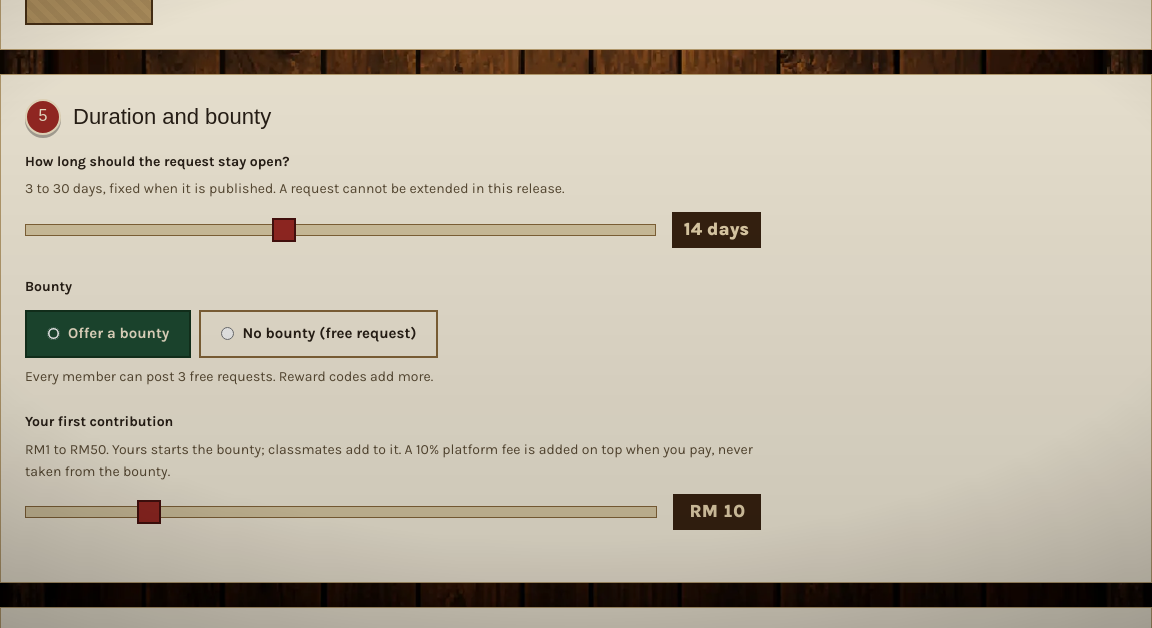
Test: the intake form › offers a free request with no bounty and hides the money slider
(page scrolled)
Click the radio button labelled "No bounty (free request)" at (228, 334), box [221,327,234,340]
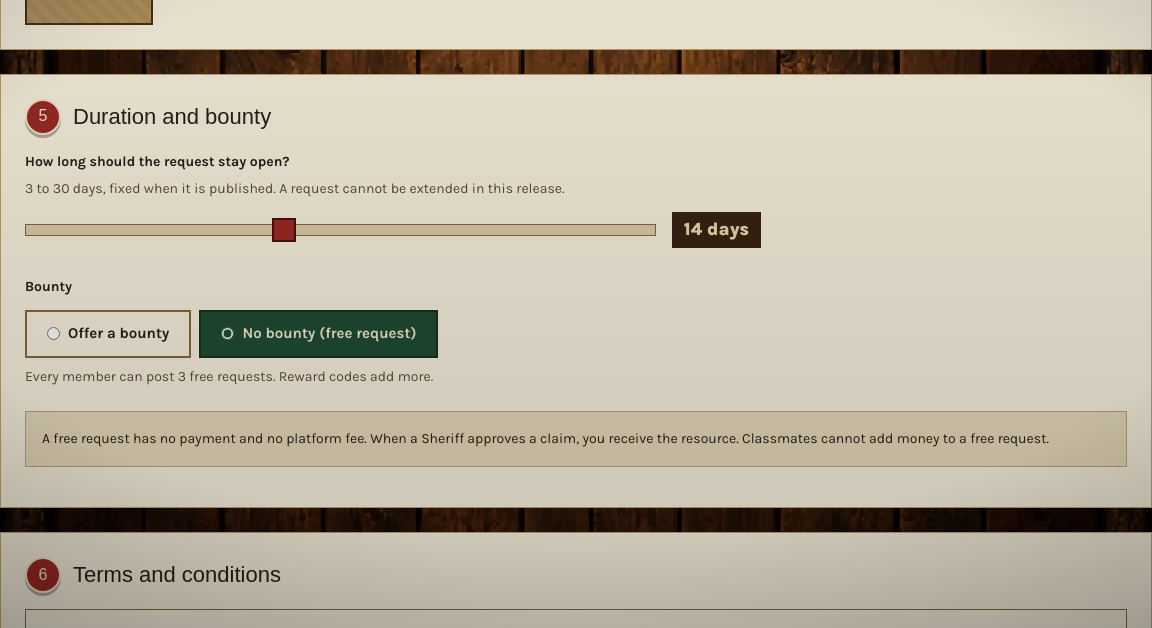
Now the label "Your first contribution" is gone
Now the text "A free request has no payment and no platform fee" is shown, box [42,430,1049,447]
